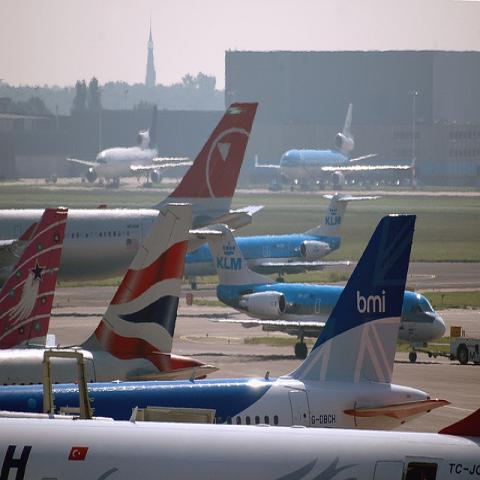truck: (416, 323, 480, 365)
